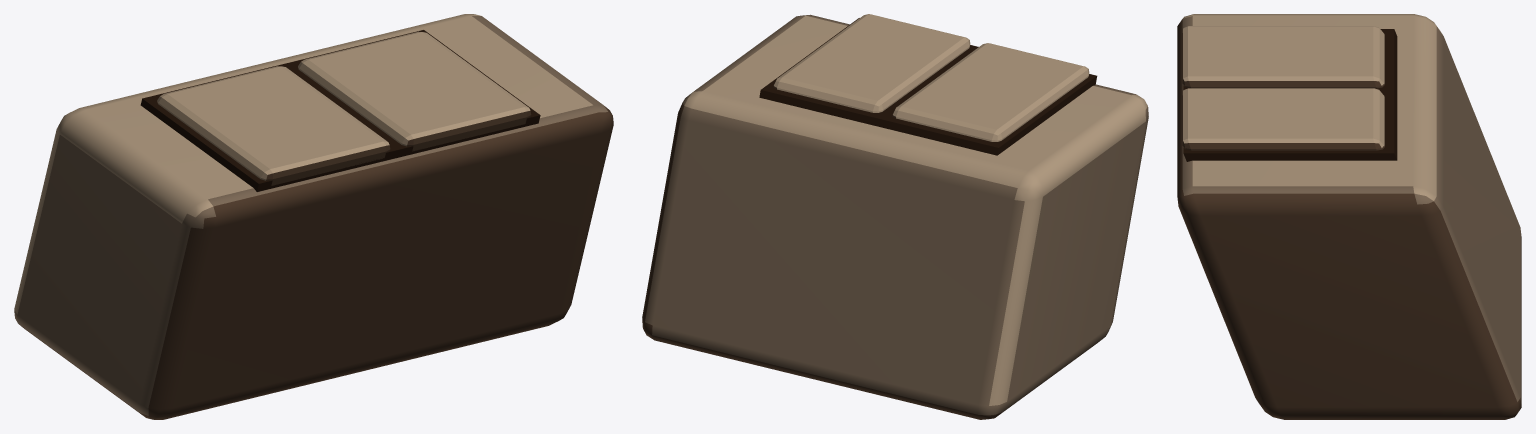
File: rig_hatch.glb
The picture shows the model from 3 angles, left to right: view 1: azimuth 30°, elevation 25°; view 2: azimuth 150°, elevation 25°; view 3: azimuth 270°, elevation 25°; orthographic projection. The views are drawn at different scales.
Parts seen in each view (by area): view 1: rig_hatch; view 2: rig_hatch; view 3: rig_hatch.
Part boxes in pixels (left/top/right/bottom): rig_hatch: left=14, top=14, right=613, bottom=419; rig_hatch: left=642, top=14, right=1148, bottom=419; rig_hatch: left=1177, top=14, right=1521, bottom=419.
Bounding box in the file's own units: 14 × 8.55 × 10.77.
